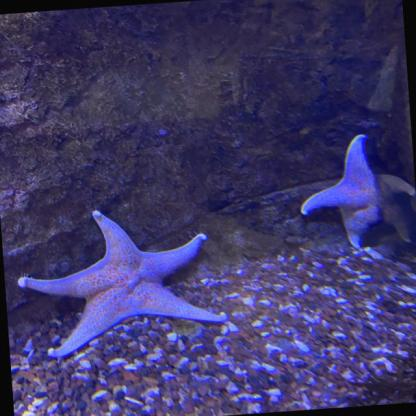starfish: (12, 201, 228, 361), (296, 131, 416, 254)
